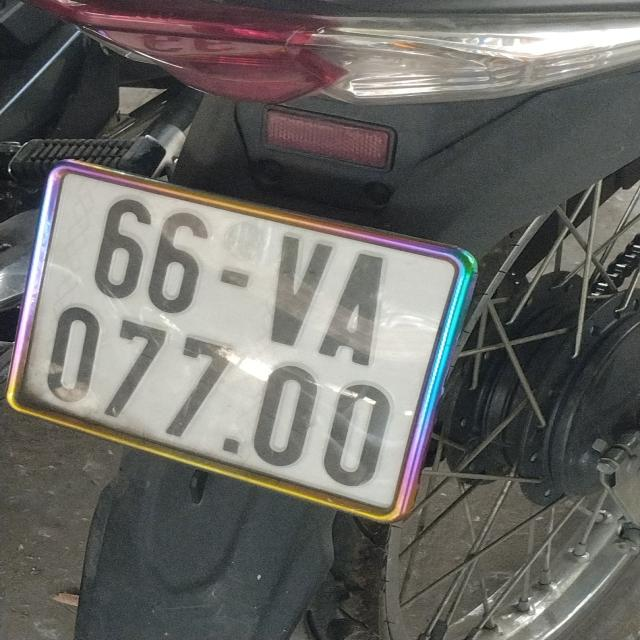0: (317, 378, 393, 494), (248, 360, 318, 480), (42, 306, 104, 404)
6: (92, 194, 154, 309), (152, 198, 204, 316)
7: (167, 333, 234, 446), (98, 315, 168, 422)
A: (316, 249, 386, 364)
V: (267, 232, 334, 345)
